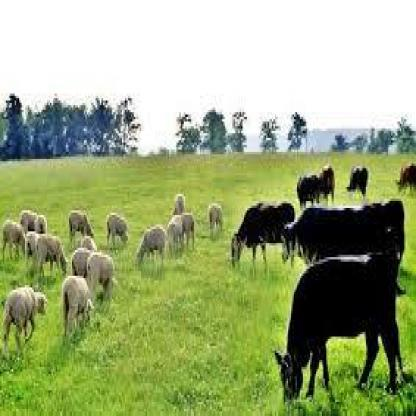cow: (272, 258, 404, 406), (279, 198, 406, 280), (229, 200, 297, 270), (294, 173, 322, 208), (296, 172, 321, 207), (344, 164, 369, 196), (394, 163, 416, 195), (320, 164, 336, 206)
